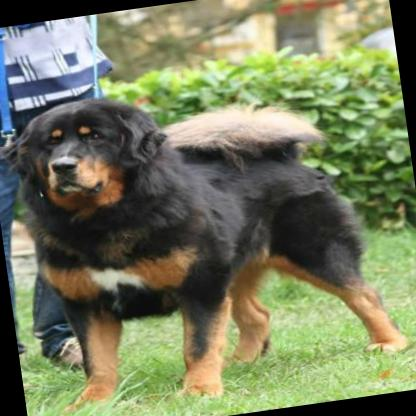Tibetan_mastiff: (0, 41, 416, 416)
